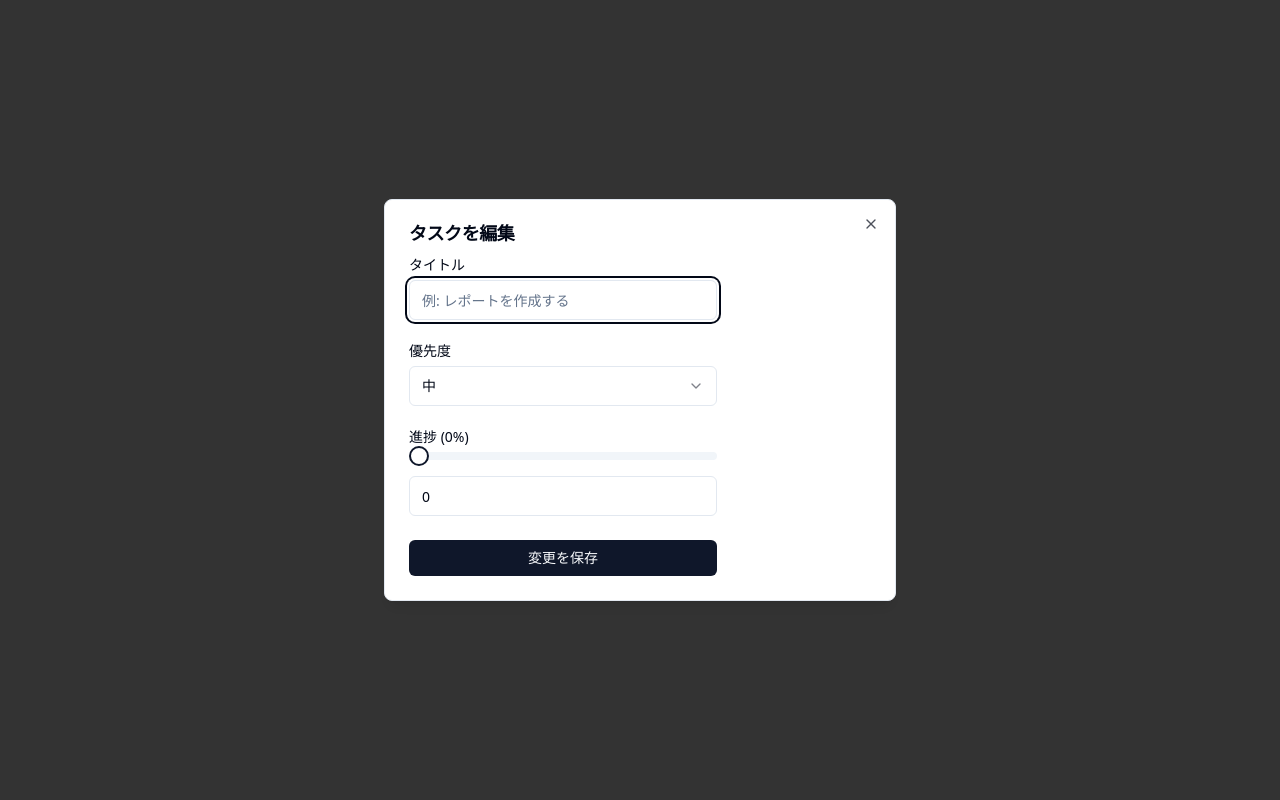
Scenario: TodoEditModal › 送信中（isSubmitting）は保存ボタンが「保存中...」になり無効化される
Click the button "変更を保存". click: x=563, y=558
box: 409,540 -> 717,576
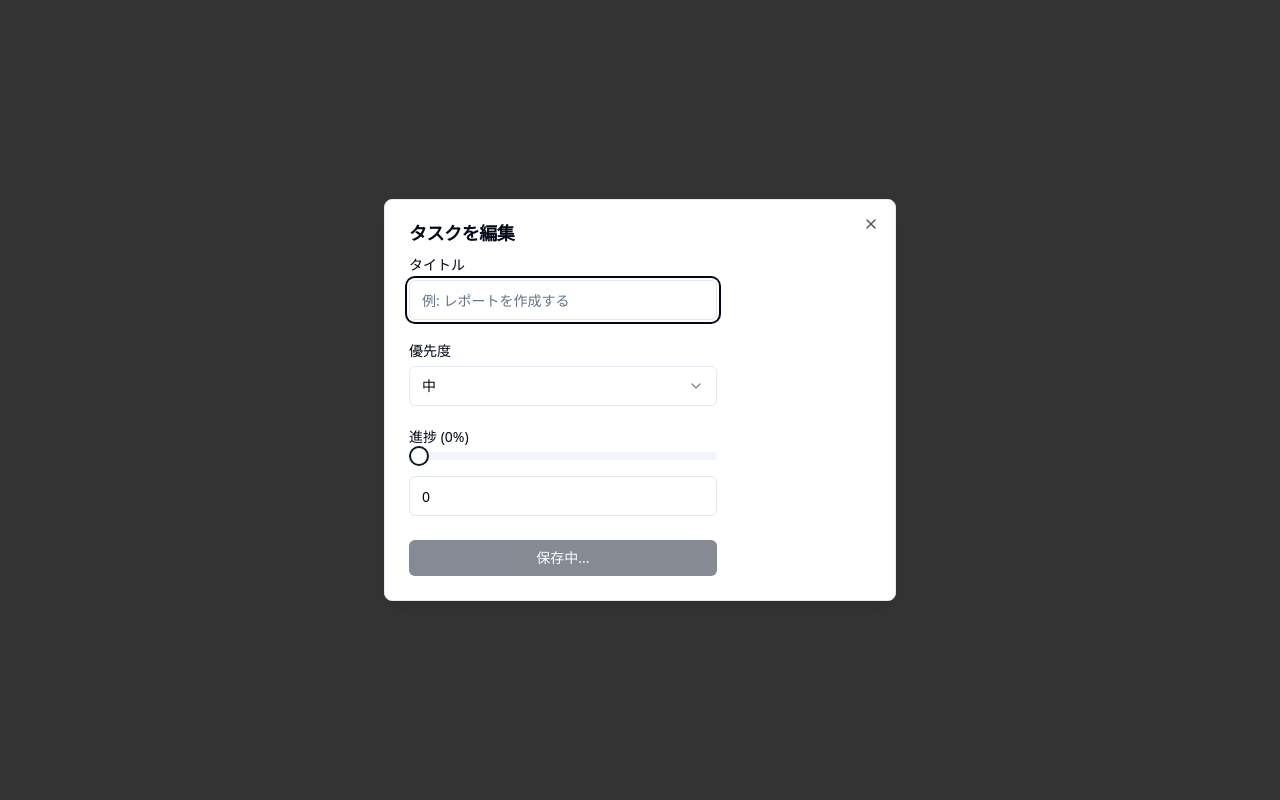
Now the button "保存中..." is disabled, box 409,540 -> 717,576
